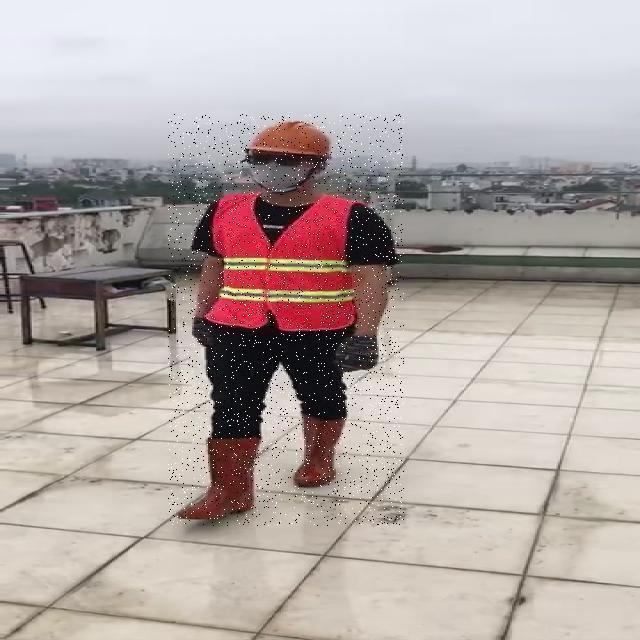gloves: (335, 332, 379, 373), (189, 315, 217, 345)
goggles: (244, 153, 310, 168)
helmet: (248, 117, 333, 158)
safety_vest: (209, 196, 364, 330)
